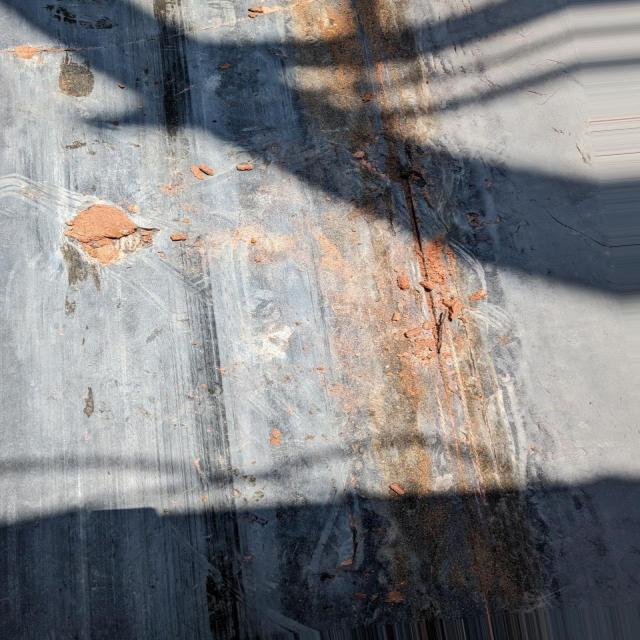impact damage: (304, 10, 547, 623)
